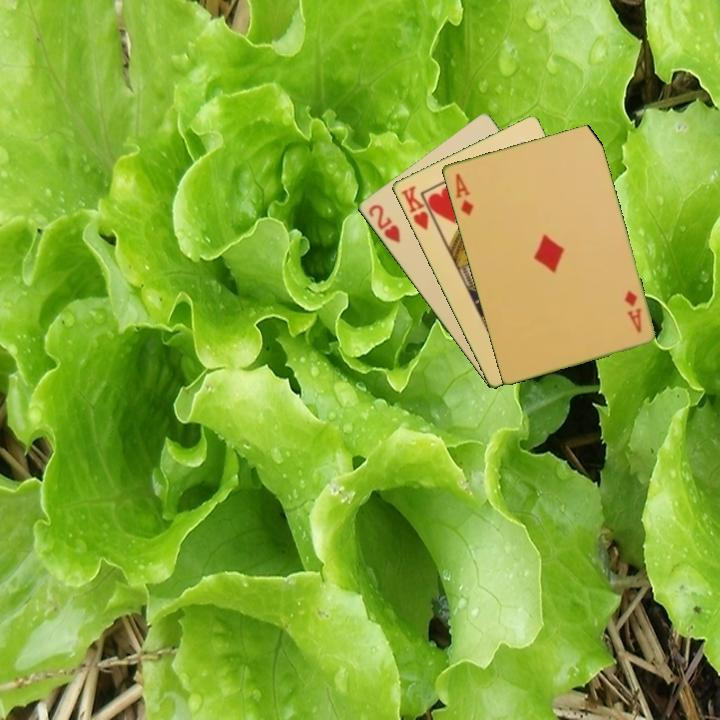2h: (364, 201, 403, 246)
Ad: (451, 169, 476, 218), (620, 287, 644, 336)
Kh: (397, 182, 440, 233)
